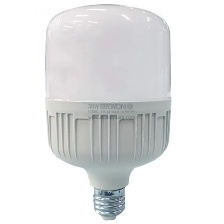light_bulb: (41, 0, 174, 224)
